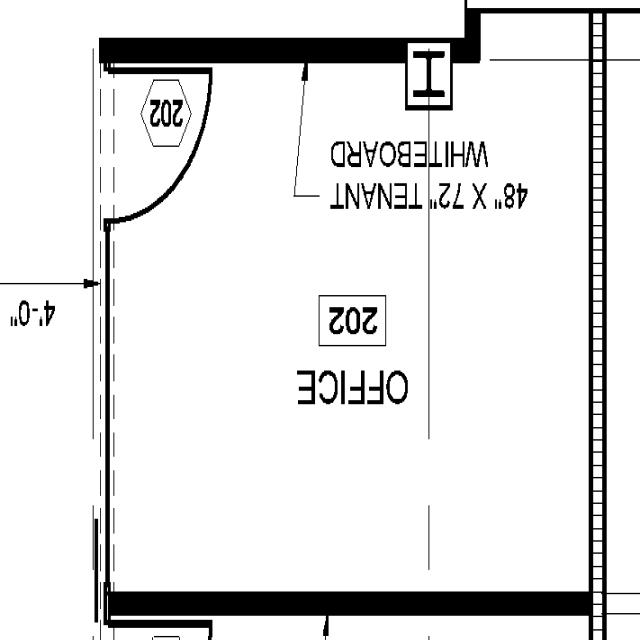Doors: (100, 65, 221, 229)
